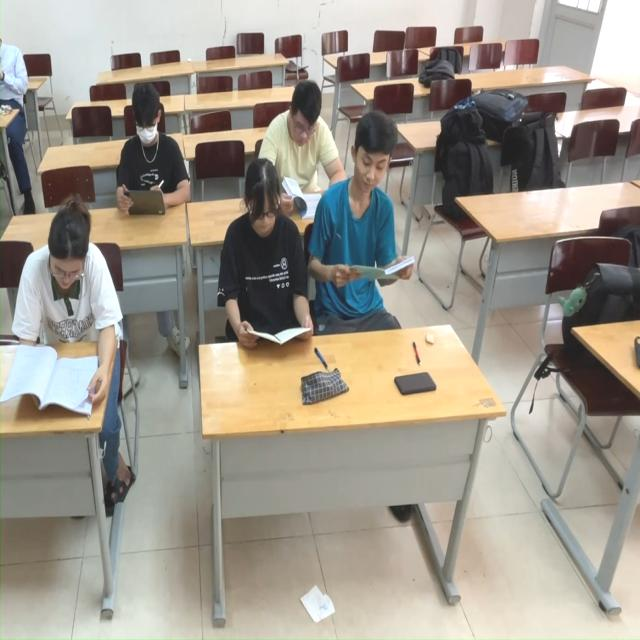read: (5, 197, 127, 432), (215, 147, 307, 356), (340, 121, 409, 395), (115, 81, 186, 235), (285, 72, 332, 211)
